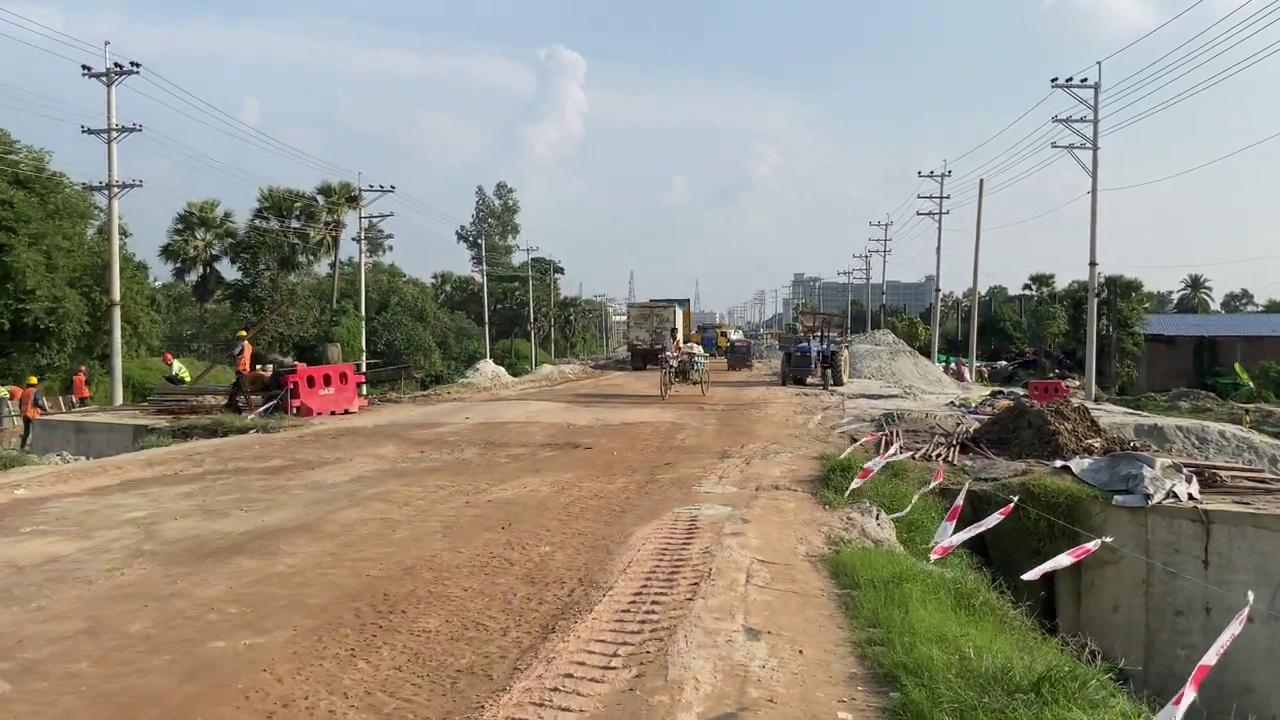Construction-barrier: (291, 361, 363, 416)
Pole: (1084, 62, 1100, 401), (968, 176, 983, 381), (356, 171, 367, 398), (526, 240, 537, 371), (480, 233, 490, 359)
Pothole: (936, 477, 1111, 638)
Traffic-sign: (454, 179, 521, 360), (1172, 271, 1214, 312)
Tree: (777, 308, 850, 389), (625, 298, 690, 370), (694, 321, 728, 357)
